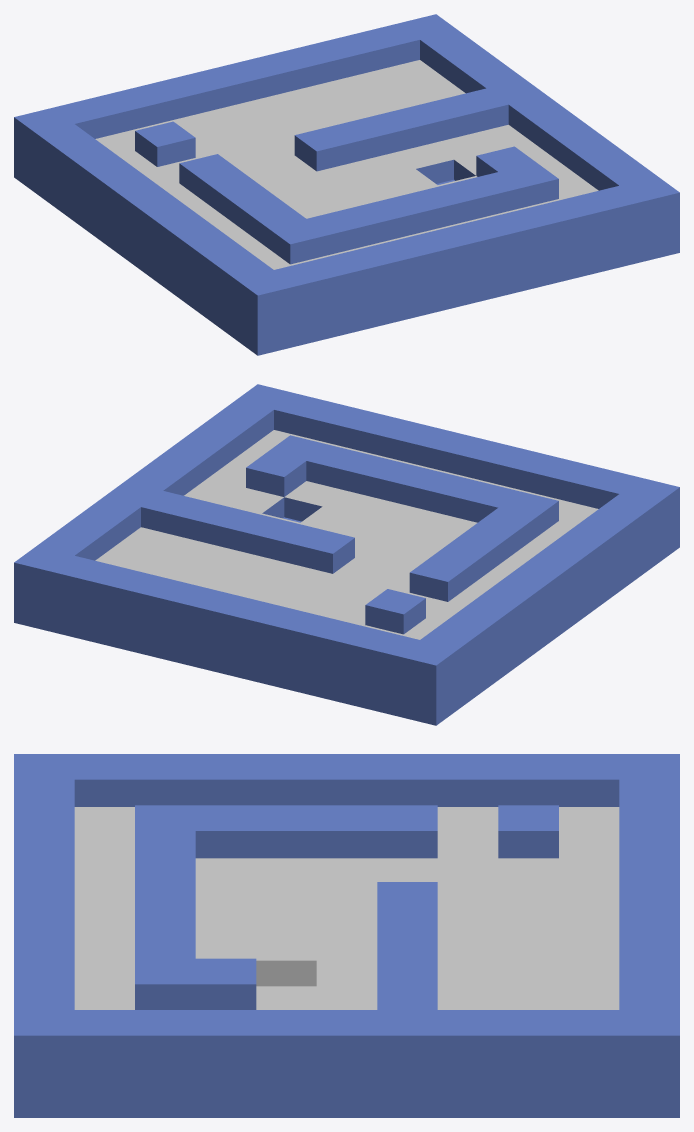
The model's file is 046_platform.fbx.
3 renders of one model, top to bottom at view 1: azimuth 30°, elevation 25°; view 2: azimuth 150°, elevation 25°; view 3: azimuth 270°, elevation 25°, orthographic. The views are drawn at different scales.
Parts seen in each view (by area): view 1: Cube; view 2: Cube; view 3: Cube.
Part boxes in pixels (left/top/right/bottom): Cube: left=14, top=14, right=679, bottom=355; Cube: left=14, top=384, right=679, bottom=725; Cube: left=14, top=754, right=679, bottom=1117.
Bounding box in the file's own units: 1100 × 150 × 1100.
